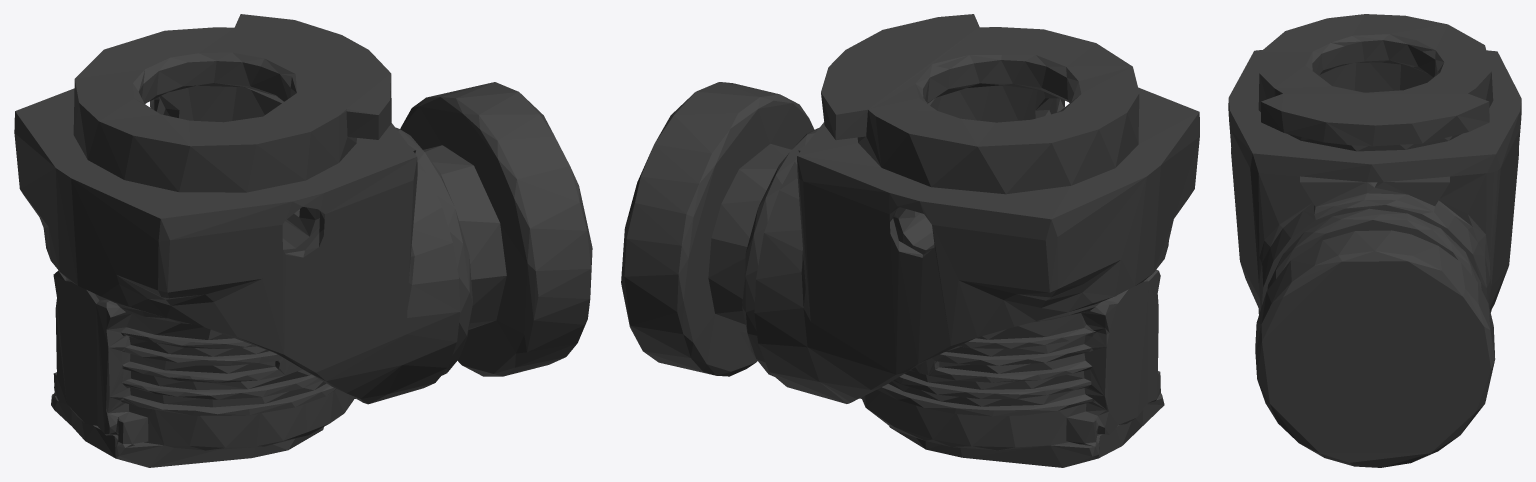
File: rear_left_hip_compressed.dae
3 renders of one model, left to right at view 1: azimuth 30°, elevation 25°; view 2: azimuth 150°, elevation 25°; view 3: azimuth 270°, elevation 25°, orthographic. The views are drawn at different scales.
Parts seen in each view (by area): view 1: node; view 2: node; view 3: node.
Part boxes in pixels (x1,y1,x2,y2): node: [14, 14, 592, 467]; node: [621, 14, 1199, 467]; node: [1228, 14, 1521, 467].
Size of the model in its own units: 0.1419 by 0.1002 by 0.0942.
Materials: 1 (1 with a texture image).
